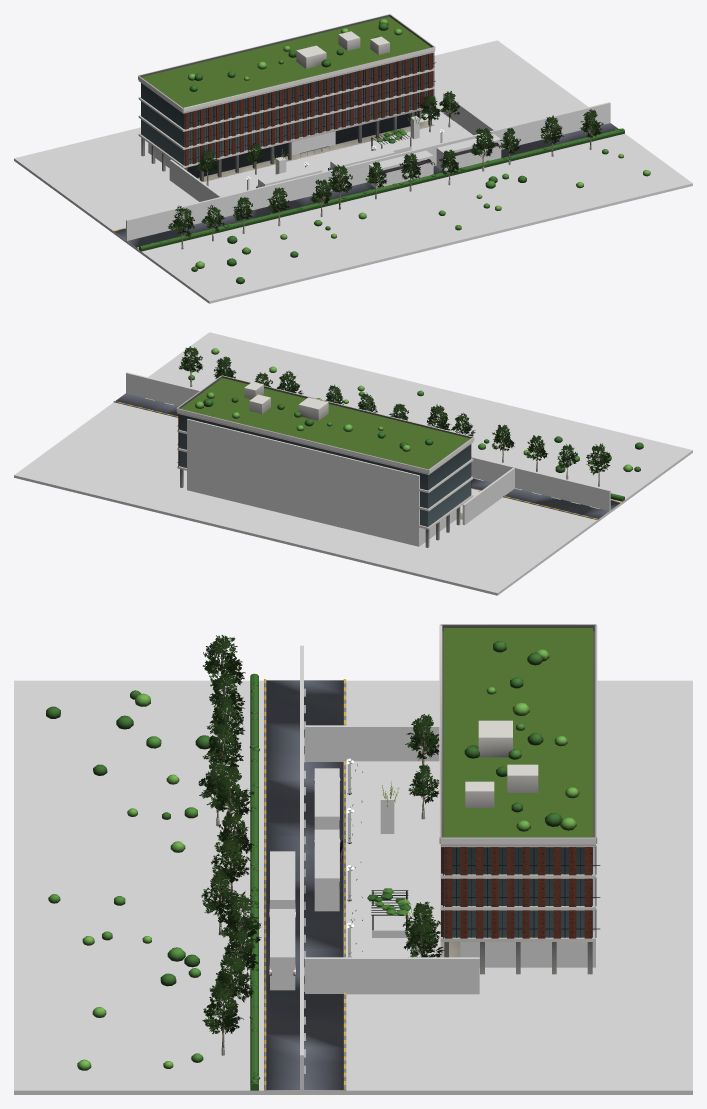
File: zone_01_bus.glb
The picture shows the model from 3 angles, top to bottom: view 1: azimuth 30°, elevation 25°; view 2: azimuth 150°, elevation 25°; view 3: azimuth 270°, elevation 25°; orthographic projection. The views are drawn at different scales.
Parts seen in each view (by area): view 1: COL_ground, ENV_buildings, COL_bien_nam, ENV_vegetation, ENV_ground, COL_sidewalk, COL_xe_bus_+20, COL_xe_bus_+6, COL_bien_tay, COL_bien_dong, ENV_cay_mai, COL_ban_do (+7 smaller); view 2: COL_ground, COL_toa_nha, ENV_buildings, COL_bien_nam, ENV_ground, COL_bien_tay, ENV_vegetation, ENV_cay_mai, ENV_cay_lo_00, ENV_cay_lo_12, ENV_cay_lo_03; view 3: COL_ground, ENV_buildings, ENV_ground, COL_sidewalk, ENV_vegetation, COL_bien_dong, COL_bien_tay, ENV_props, COL_toa_nha, ENV_cay_mai, COL_xe_bus_+0, COL_xe_bus_+20 (+20 smaller).
Boxes of the visible parts, <box> form: COL_ground: <box>14,40,692,303</box>; ENV_buildings: <box>138,14,435,181</box>; COL_bien_nam: <box>126,102,610,240</box>; ENV_vegetation: <box>139,110,650,284</box>; ENV_ground: <box>115,120,618,247</box>; COL_sidewalk: <box>203,121,472,196</box>; COL_xe_bus_+20: <box>436,134,501,171</box>; COL_xe_bus_+6: <box>369,150,433,188</box>; COL_bien_tay: <box>169,159,221,201</box>; COL_bien_dong: <box>443,93,495,135</box>; ENV_cay_mai: <box>188,19,402,91</box>; COL_ban_do: <box>291,131,335,155</box>; COL_ground: <box>14,332,692,595</box>; COL_toa_nha: <box>187,419,456,546</box>; ENV_buildings: <box>176,375,474,547</box>; COL_bien_nam: <box>126,372,610,510</box>; ENV_ground: <box>116,393,619,519</box>; COL_bien_tay: <box>462,468,514,525</box>; ENV_vegetation: <box>188,348,643,501</box>; ENV_cay_mai: <box>195,392,433,451</box>; ENV_cay_lo_00: <box>586,443,610,481</box>; ENV_cay_lo_12: <box>178,346,202,386</box>; ENV_cay_lo_03: <box>492,424,514,457</box>; COL_ground: <box>14,680,692,1094</box>; ENV_buildings: <box>439,624,600,974</box>; ENV_ground: <box>266,680,460,1090</box>; COL_sidewalk: <box>343,761,440,957</box>; ENV_vegetation: <box>46,673,425,1090</box>; COL_bien_dong: <box>305,957,479,994</box>; COL_bien_tay: <box>305,725,439,761</box>; ENV_props: <box>264,679,410,1090</box>; COL_toa_nha: <box>460,847,595,967</box>; ENV_cay_mai: <box>464,641,579,831</box>; COL_xe_bus_+0: <box>314,829,339,911</box>; COL_xe_bus_+20: <box>270,909,295,990</box>.
Size of the model in its own units: 100 by 18.2 by 70.
8 materials, 5 textured.
